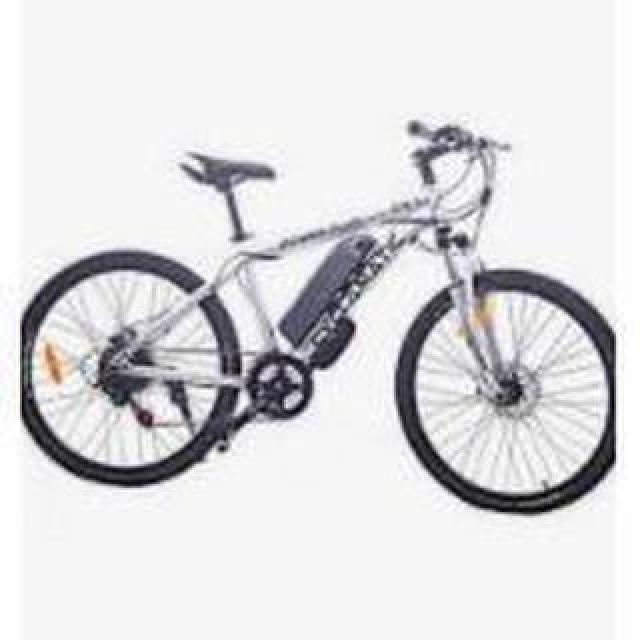Person: (12, 118, 616, 516)
